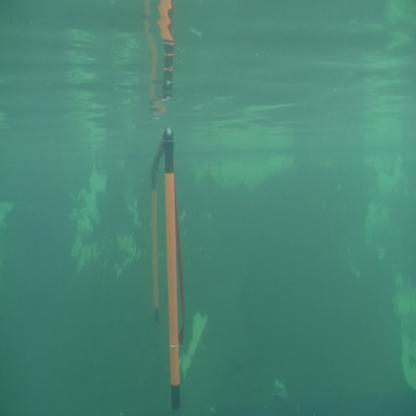gate: (151, 122, 182, 415)
